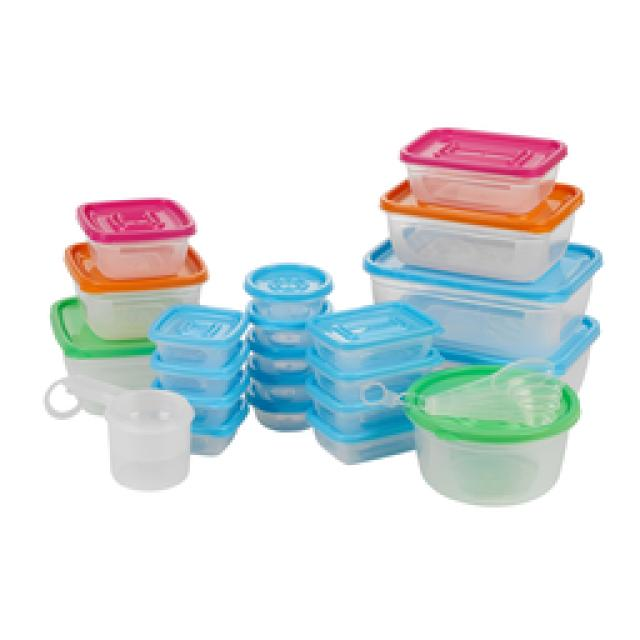inorganic: (401, 120, 567, 217)
